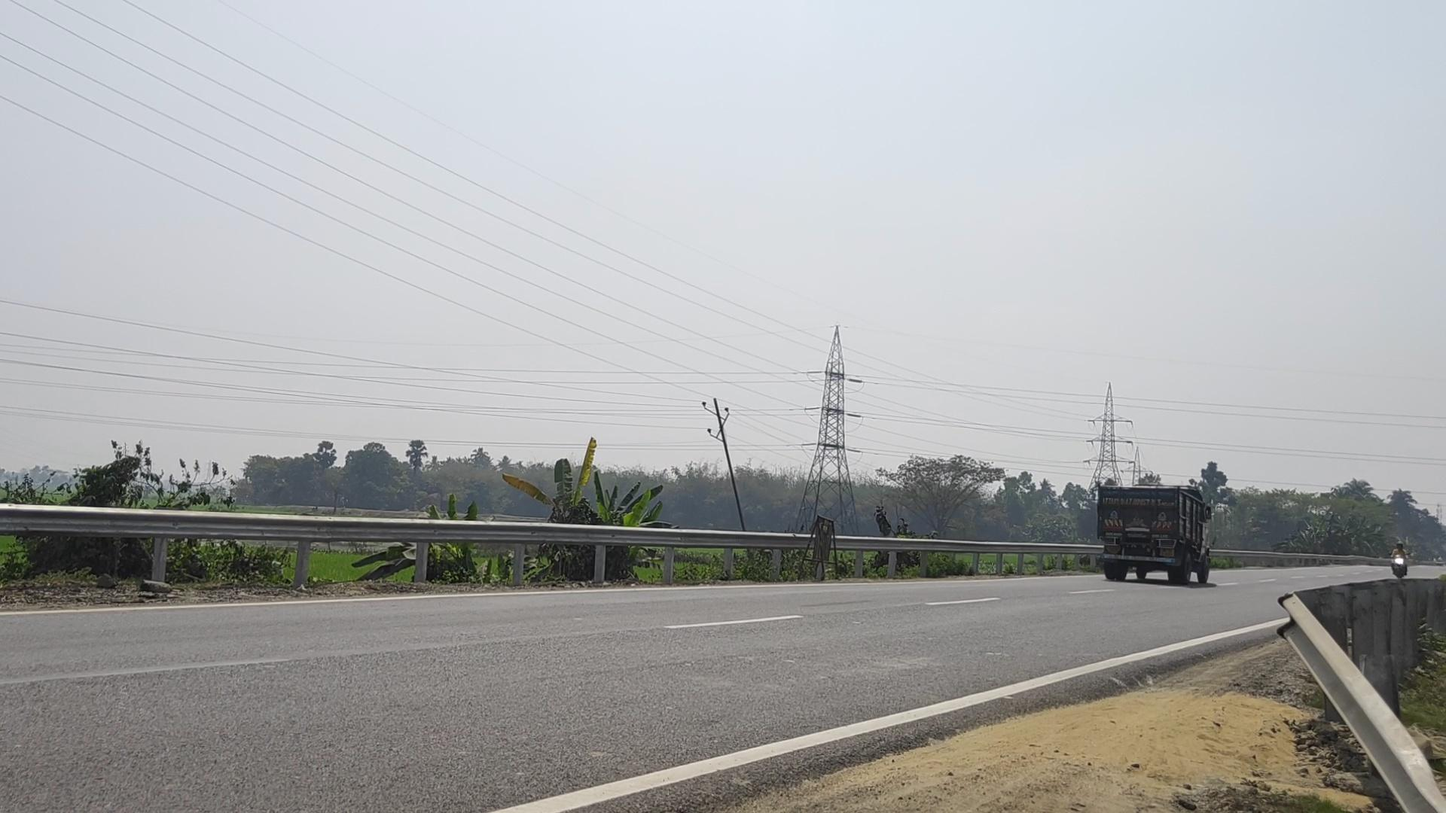bike: (1389, 541, 1410, 579)
truck: (1097, 482, 1212, 586)
